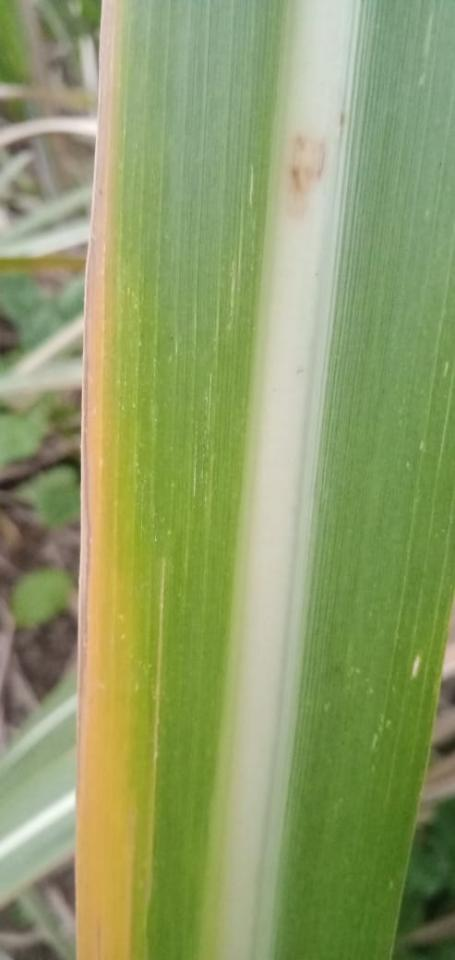RedRot: (281, 132, 329, 221)
Yellow: (76, 0, 133, 959)
